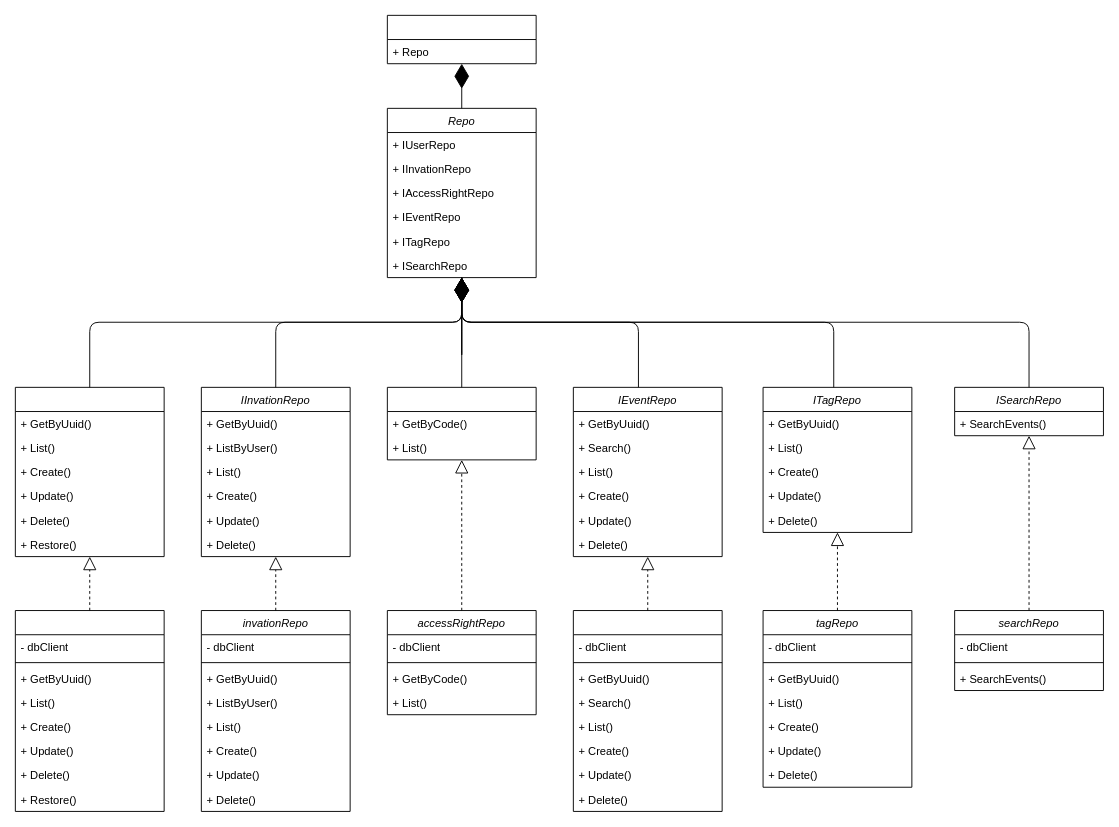
The diagram is 1119 pixels wide and 827 high, and some of its shapes have lost their labels. The shapes that lost their labels are listed below. From the top down, each one's box as (x1, y1, x2, y2) in pixels, then its label:
(386, 14, 536, 64): DI
(386, 386, 536, 460): IAccessRightRepo
(14, 386, 164, 557): IUserRepo
(14, 610, 164, 811): userRepo
(572, 610, 722, 811): eventRepo
